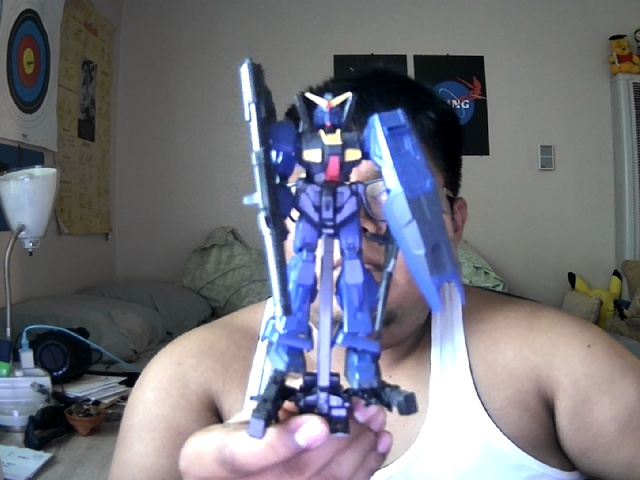Mk-11-Titans: (237, 58, 468, 395)
